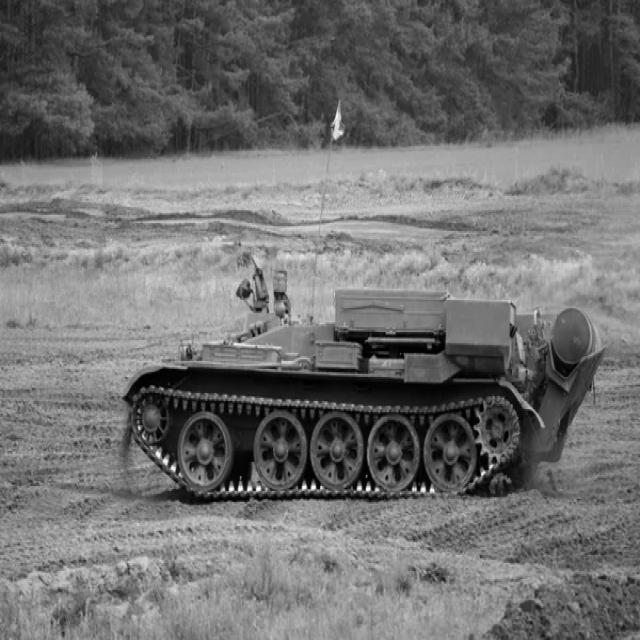Tank: (113, 253, 604, 509)
